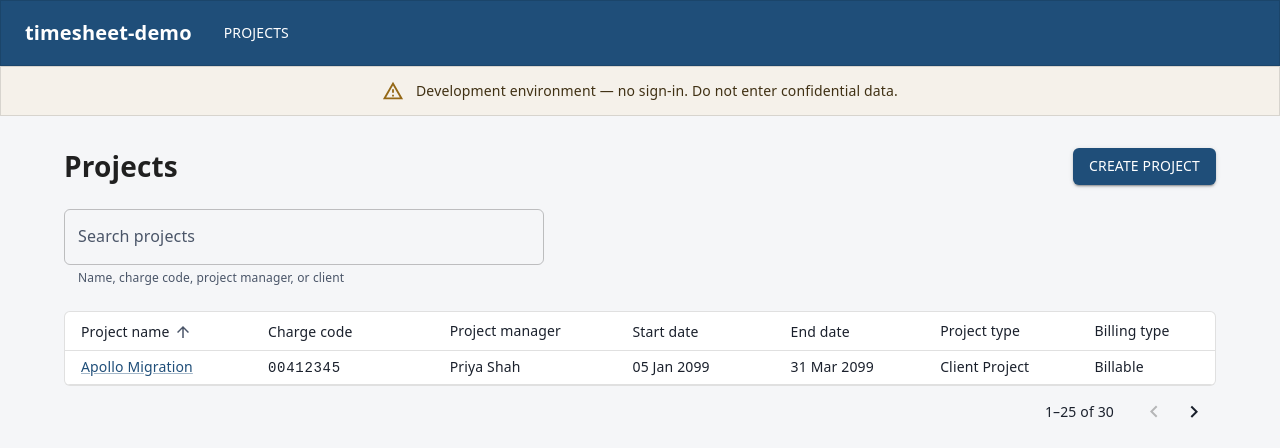
Test: ProjectListPage › changes page and reflects it in the URL
Expected: the link "Apollo Migration" is shown, [81, 357, 193, 376]
Click the button named "next page".
click(1194, 412)  # box [1174, 392, 1214, 432]
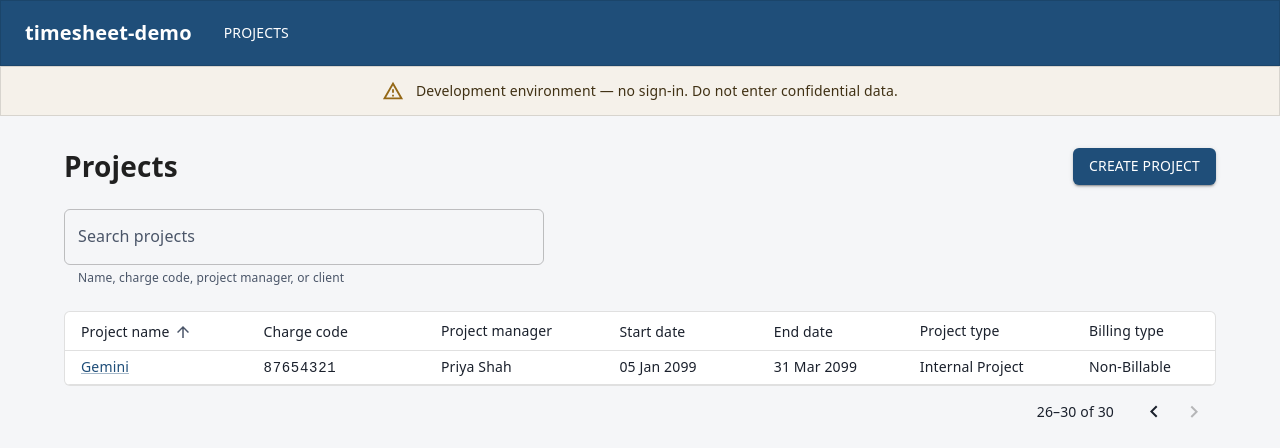
Expected: the link "Gemini" is shown, [81, 357, 129, 376]
